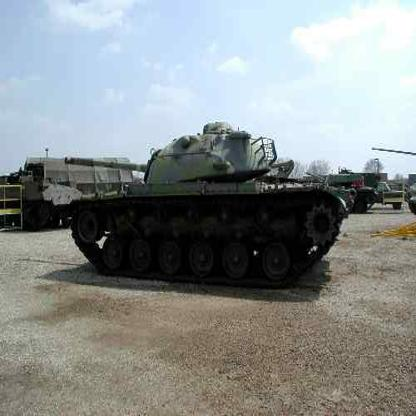Tank: (64, 120, 348, 302)
